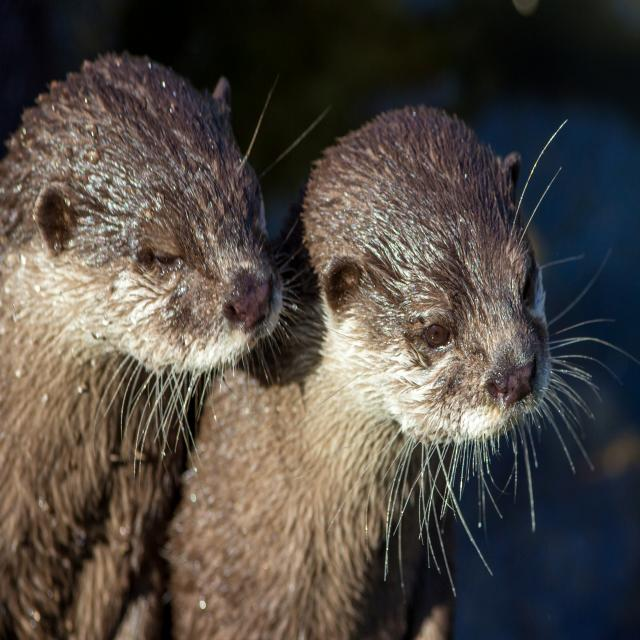otter: (1, 58, 282, 456), (292, 105, 548, 457)
